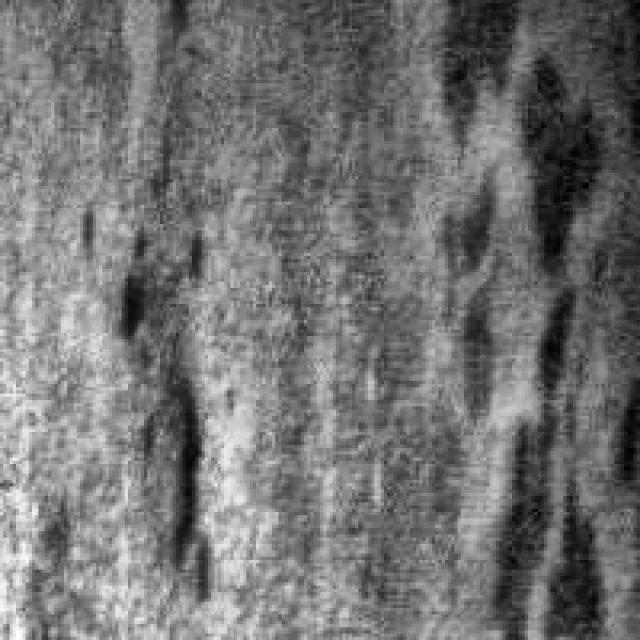Patches: (500, 215, 630, 628), (106, 205, 230, 628), (416, 32, 509, 419)
